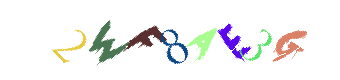2: (70, 0, 150, 80)
3: (186, 0, 266, 80)
8: (130, 0, 210, 80)
A: (134, 0, 214, 80)
E: (181, 0, 261, 80)
F: (128, 0, 208, 80)
G: (192, 0, 272, 80)
W: (106, 0, 186, 80)
